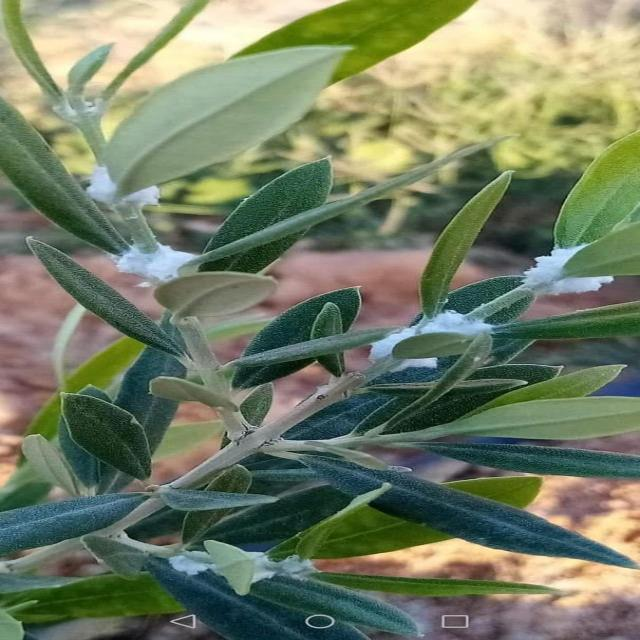Psyllid: (495, 222, 639, 312), (167, 540, 318, 596), (368, 311, 494, 368), (110, 240, 200, 286), (86, 166, 158, 221)
